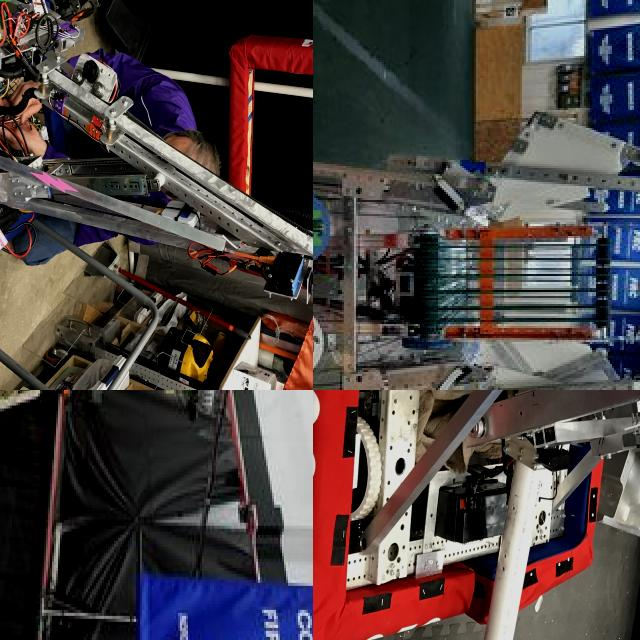FRC-Robots: (0, 0, 313, 386), (313, 53, 637, 390), (313, 390, 640, 640), (0, 390, 313, 640)
